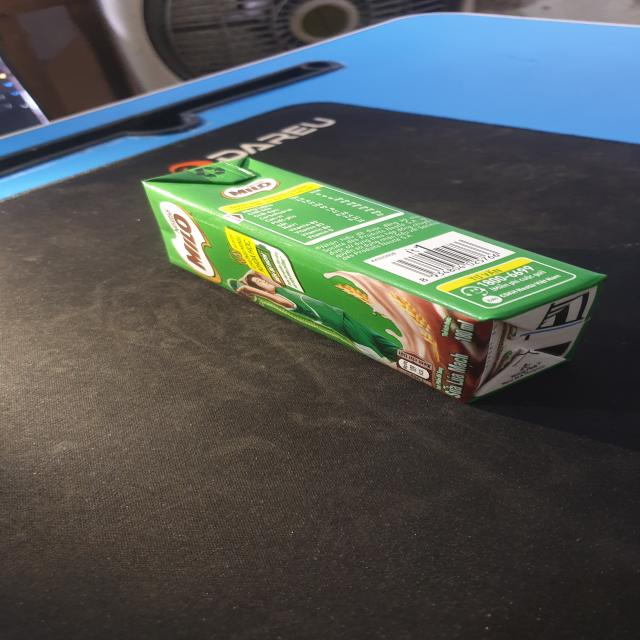Milo: (145, 153, 602, 406)
